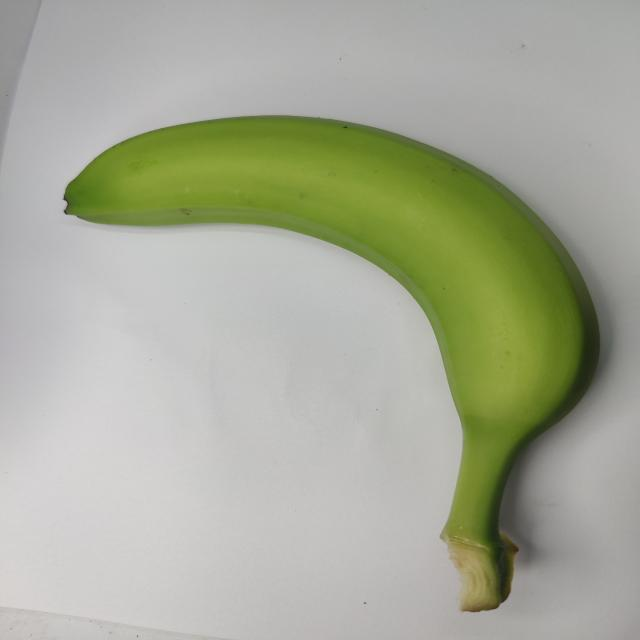raw: (30, 90, 608, 620)
